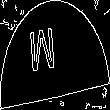M_S: (40, 27, 70, 83)
